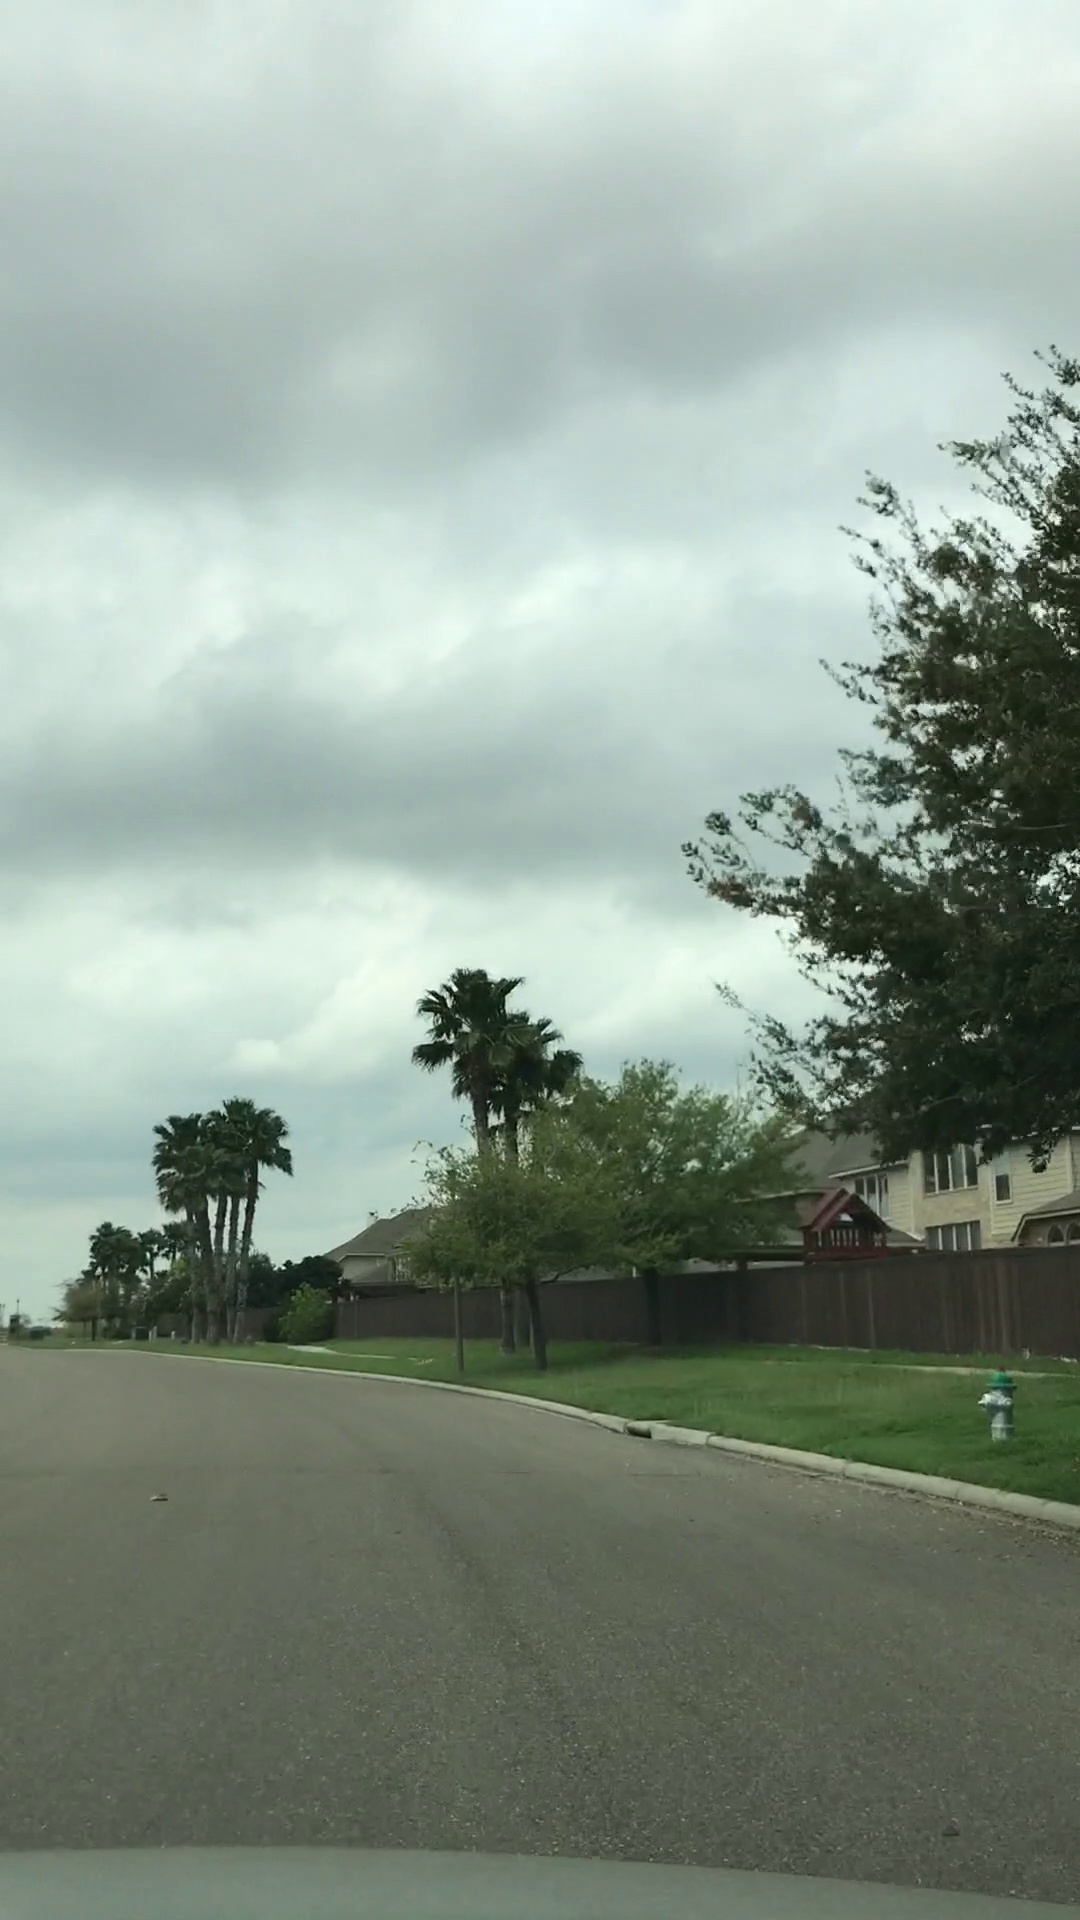crack: (512, 1462, 778, 1491)
